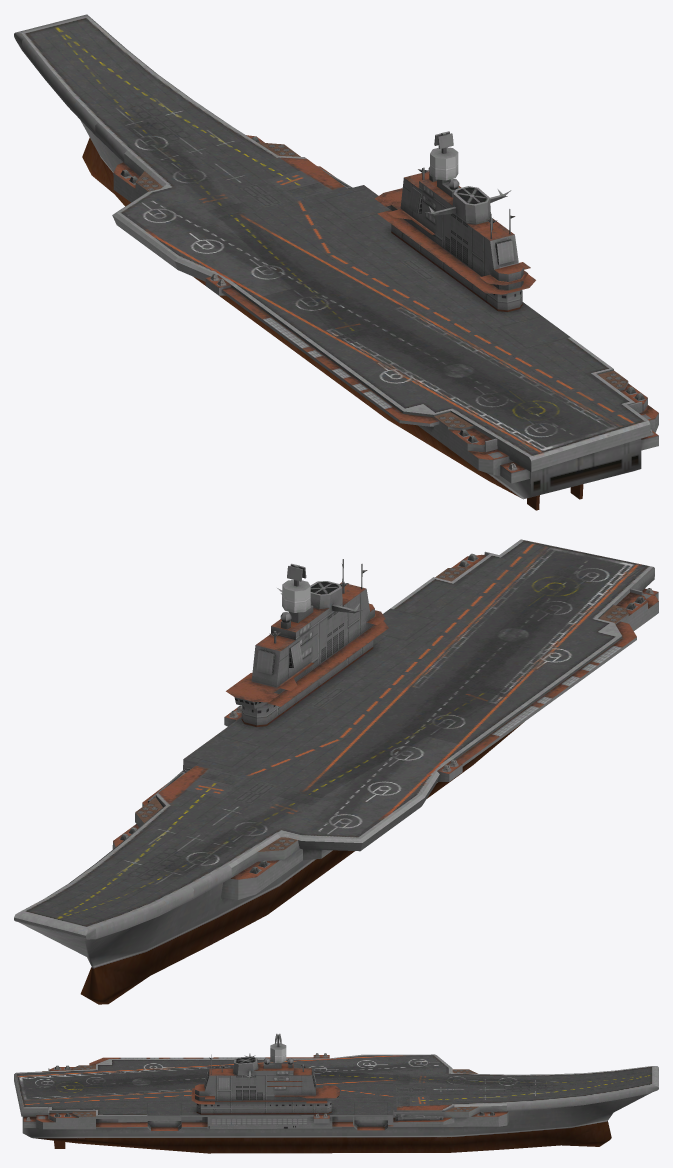
Rendered from Carrier.FBX.
The picture shows the model from 3 angles, top to bottom: view 1: azimuth 30°, elevation 25°; view 2: azimuth 150°, elevation 25°; view 3: azimuth 270°, elevation 25°; orthographic projection. The views are drawn at different scales.
Visible parts, largest first — view 1: DrawCall96, DrawCall97; view 2: DrawCall96, DrawCall97; view 3: DrawCall96, DrawCall97.
Boxes of the visible parts, x1,y1,x2,y2 form: DrawCall96: [14, 14, 658, 510]; DrawCall97: [136, 142, 627, 428]; DrawCall96: [14, 539, 658, 1004]; DrawCall97: [135, 566, 628, 851]; DrawCall96: [14, 1033, 658, 1153]; DrawCall97: [72, 1065, 478, 1116].
Size of the model in its own units: 78.16 by 68.25 by 302.
4 materials, 4 textured.
